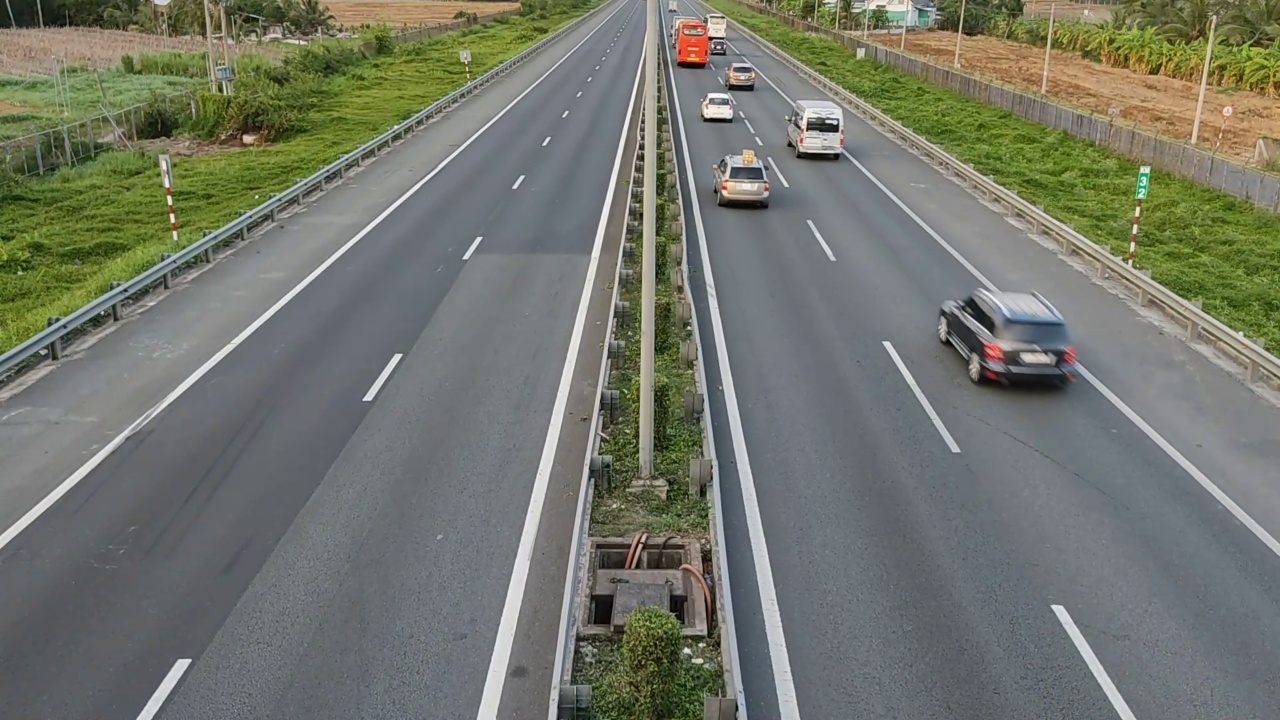car: (935, 288, 1079, 388), (711, 152, 771, 208), (701, 92, 735, 122), (725, 62, 757, 90)
